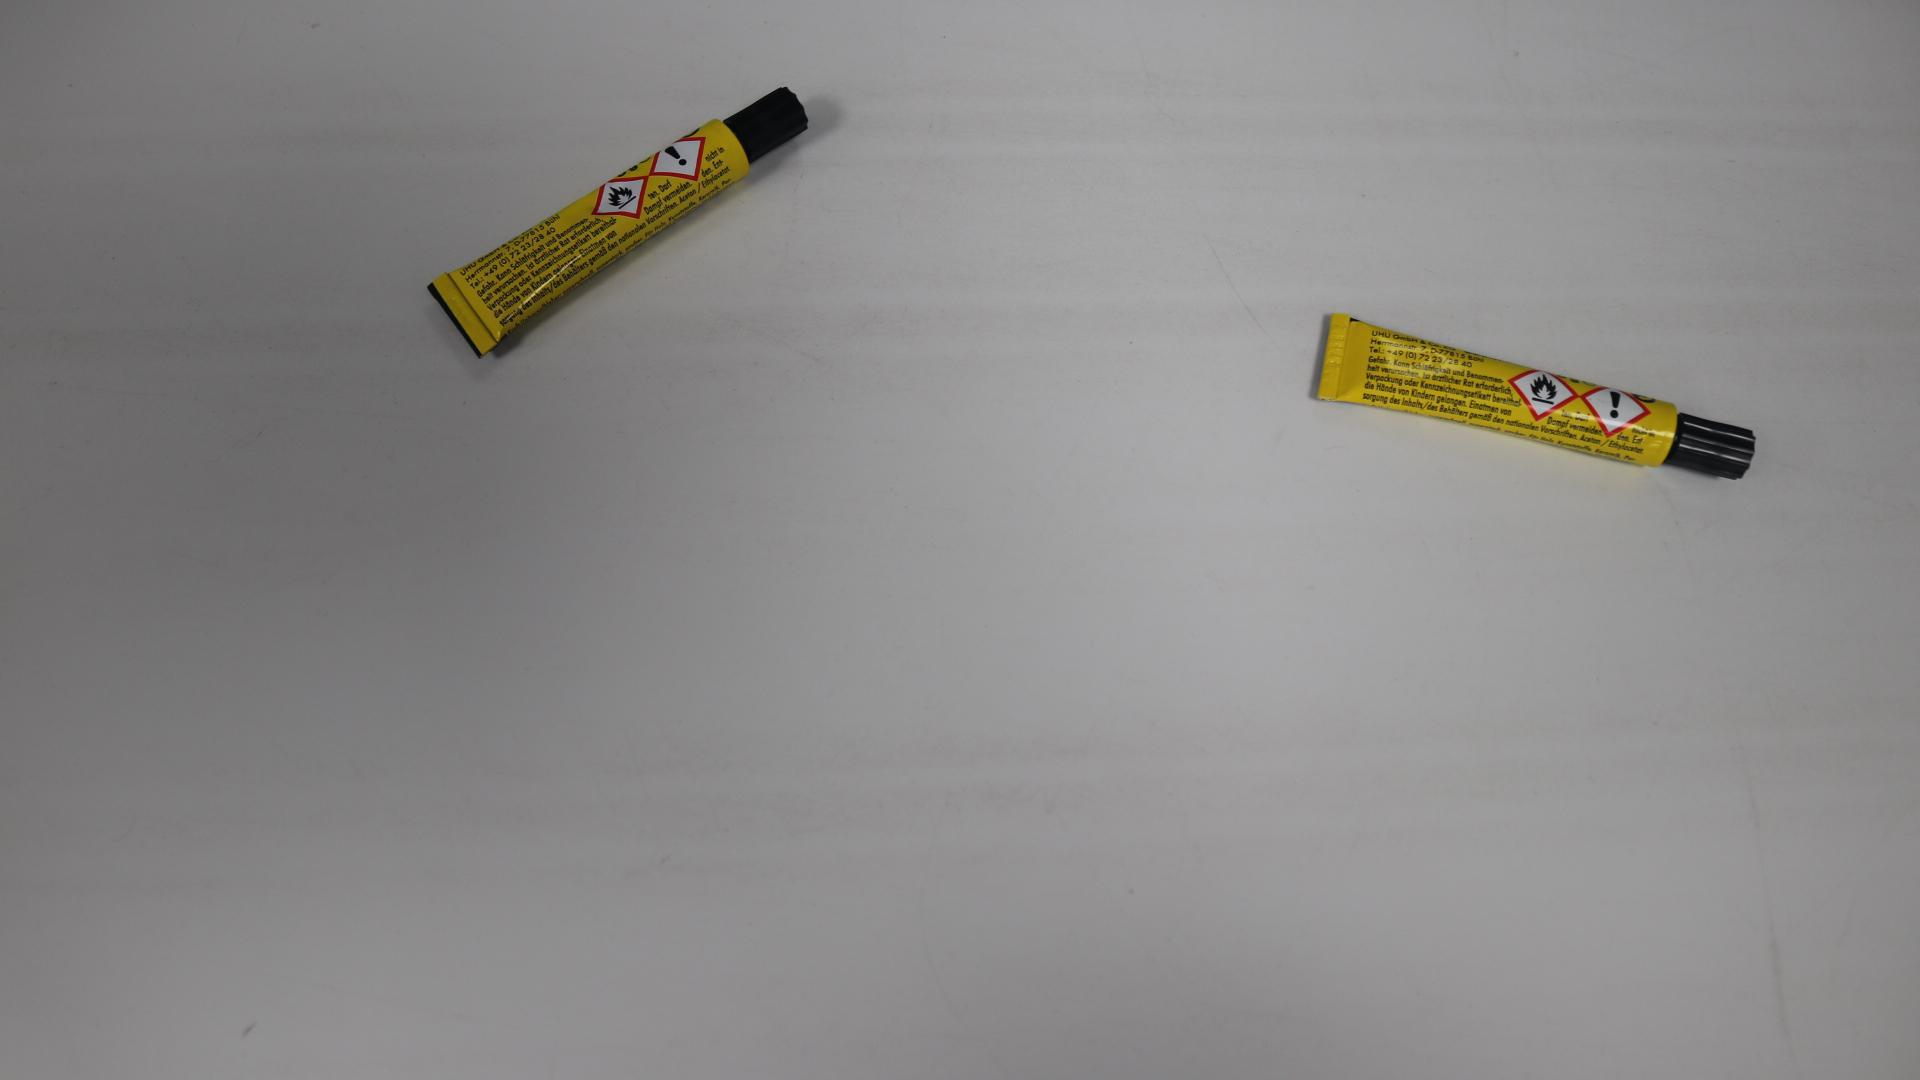Head: (1708, 439, 1722, 453), (761, 119, 772, 130)
Tail: (455, 308, 472, 325), (1326, 349, 1340, 363)
Tube: (427, 84, 807, 357), (1317, 313, 1756, 480)
